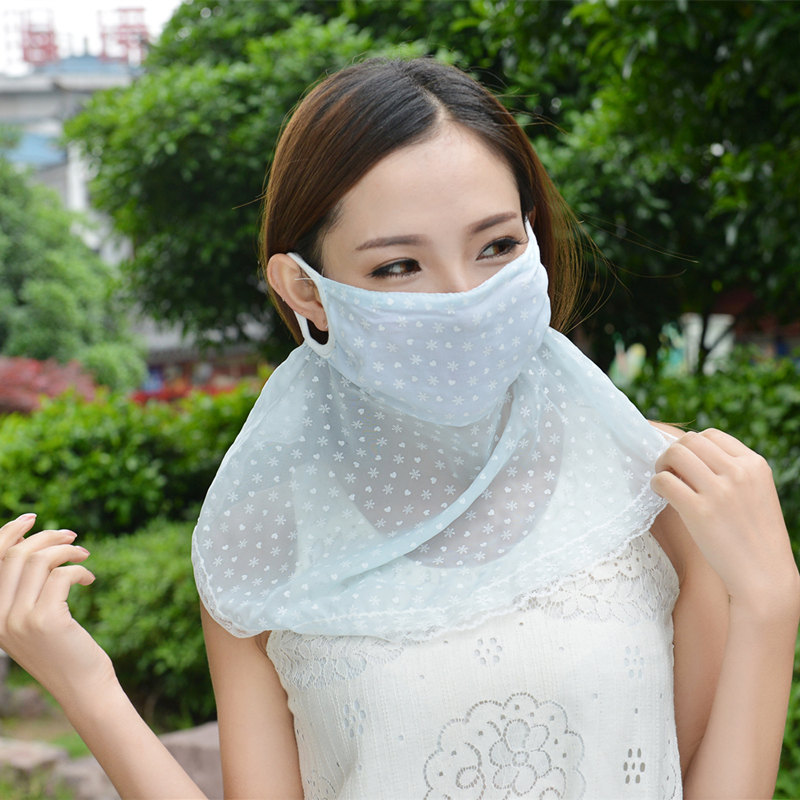face_mask: (323, 130, 543, 420)
